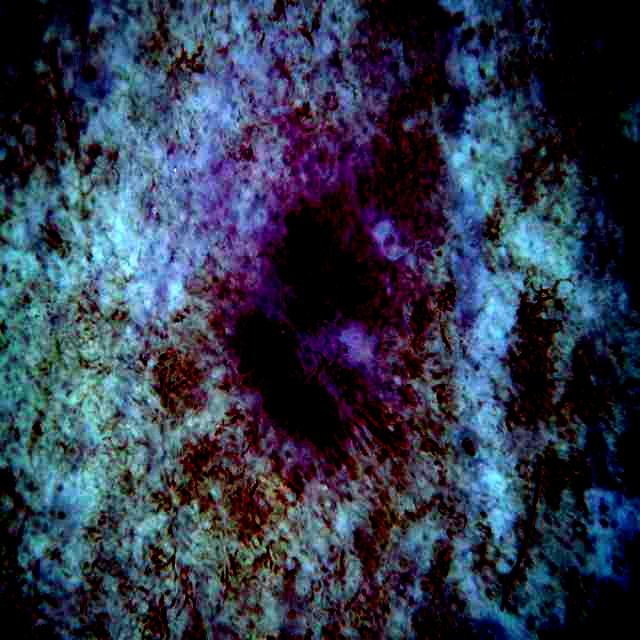BCC: (241, 148, 426, 444)
